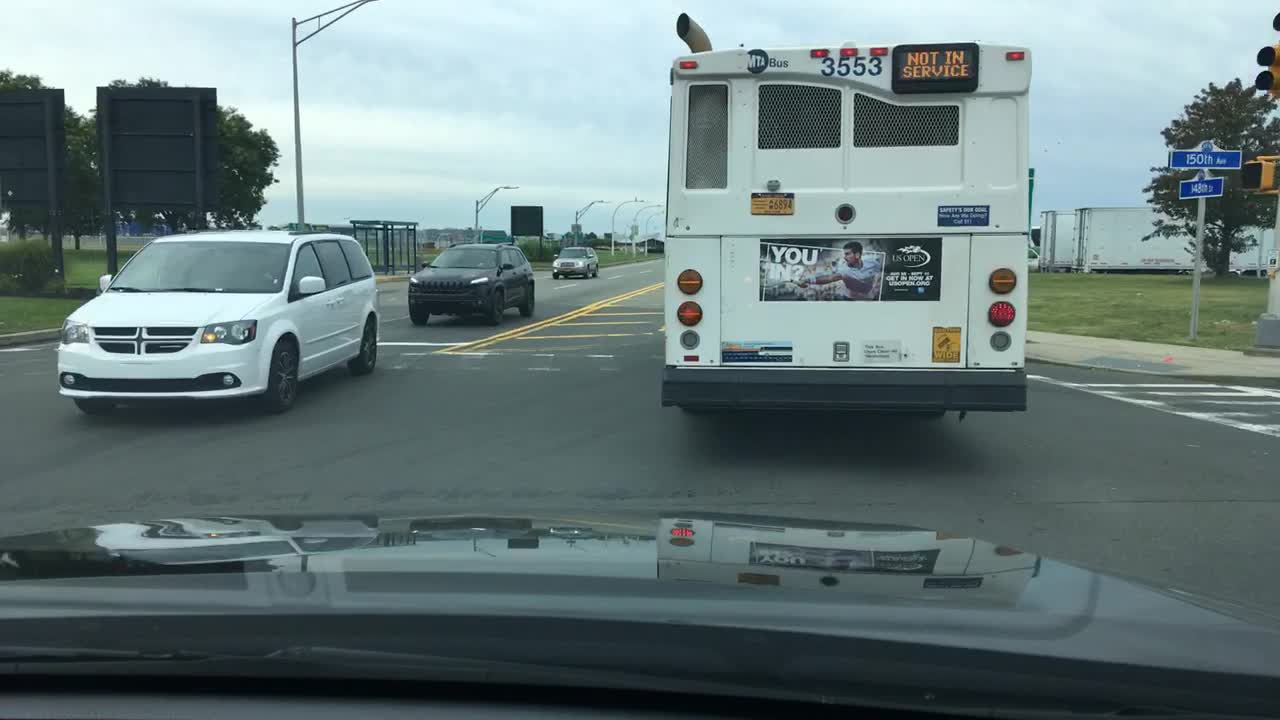bus: (658, 12, 1029, 415)
car: (55, 231, 379, 415), (405, 243, 531, 327), (550, 245, 597, 282)
traffic light: (1255, 13, 1279, 101), (1237, 160, 1274, 189)
traffic sign: (94, 84, 221, 212), (0, 88, 67, 216), (1166, 145, 1242, 169), (1178, 174, 1223, 197), (509, 206, 541, 236), (1027, 165, 1034, 226), (479, 228, 504, 243)
truck: (1024, 204, 1279, 278)
